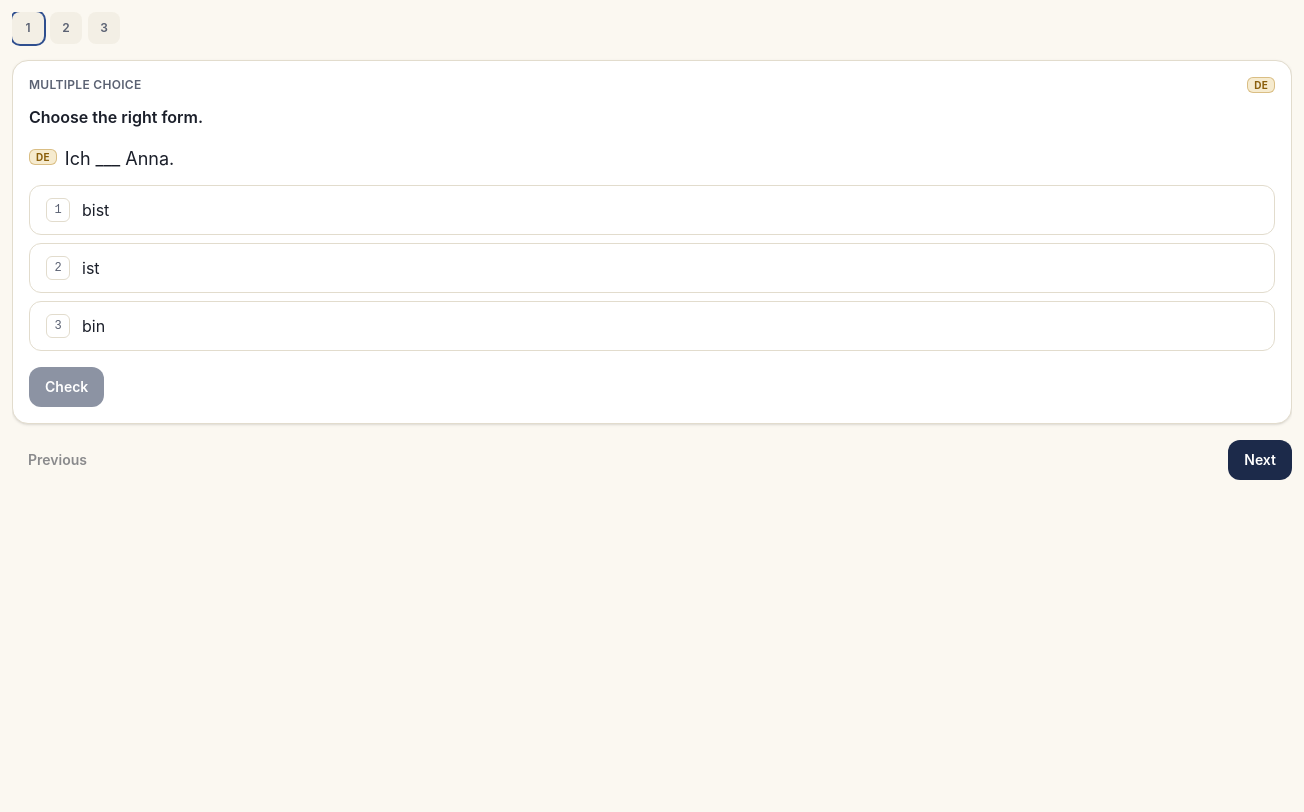
Test: ExerciseRunner › jumps back to a mistake from the summary
Click the radio button labelled "ist". click: (58, 268)
box: [29, 243, 1275, 293]
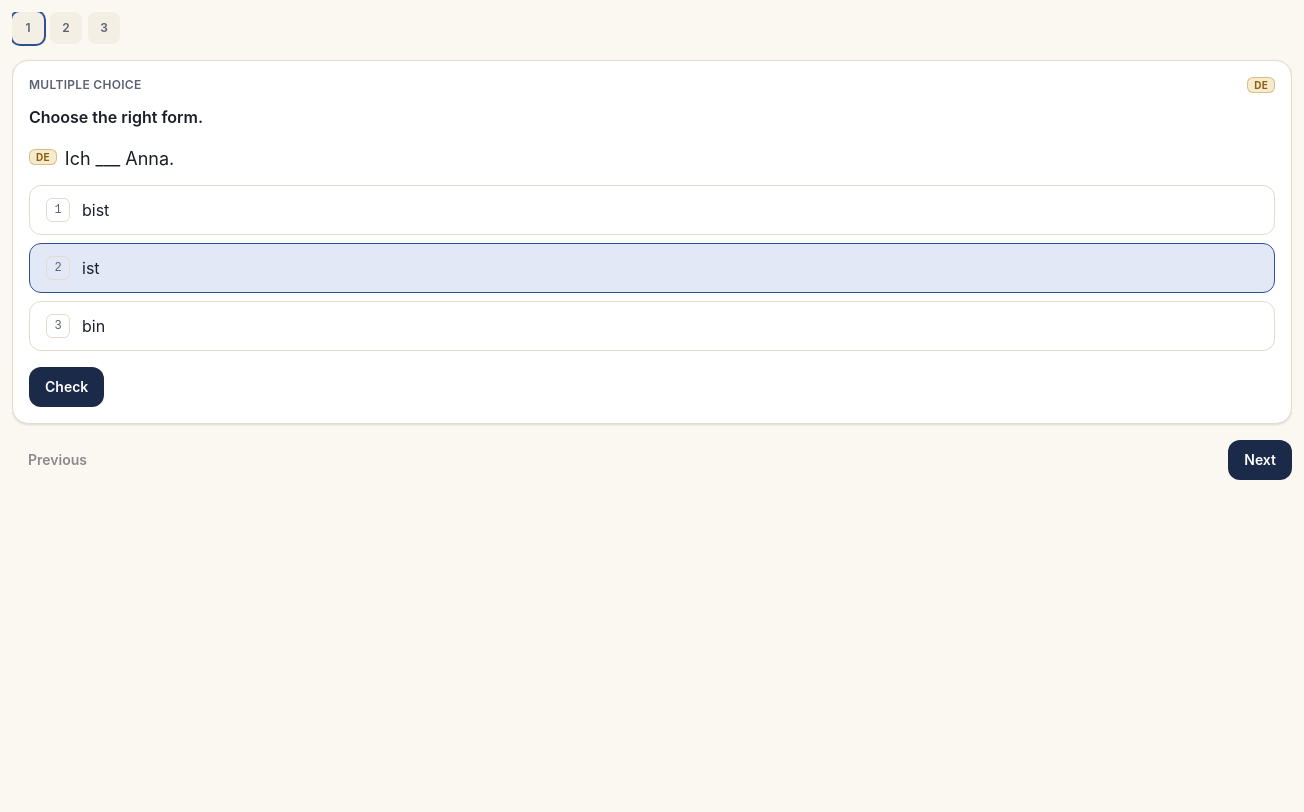
Click the button "Check". click: (67, 387)
box: [29, 367, 104, 407]
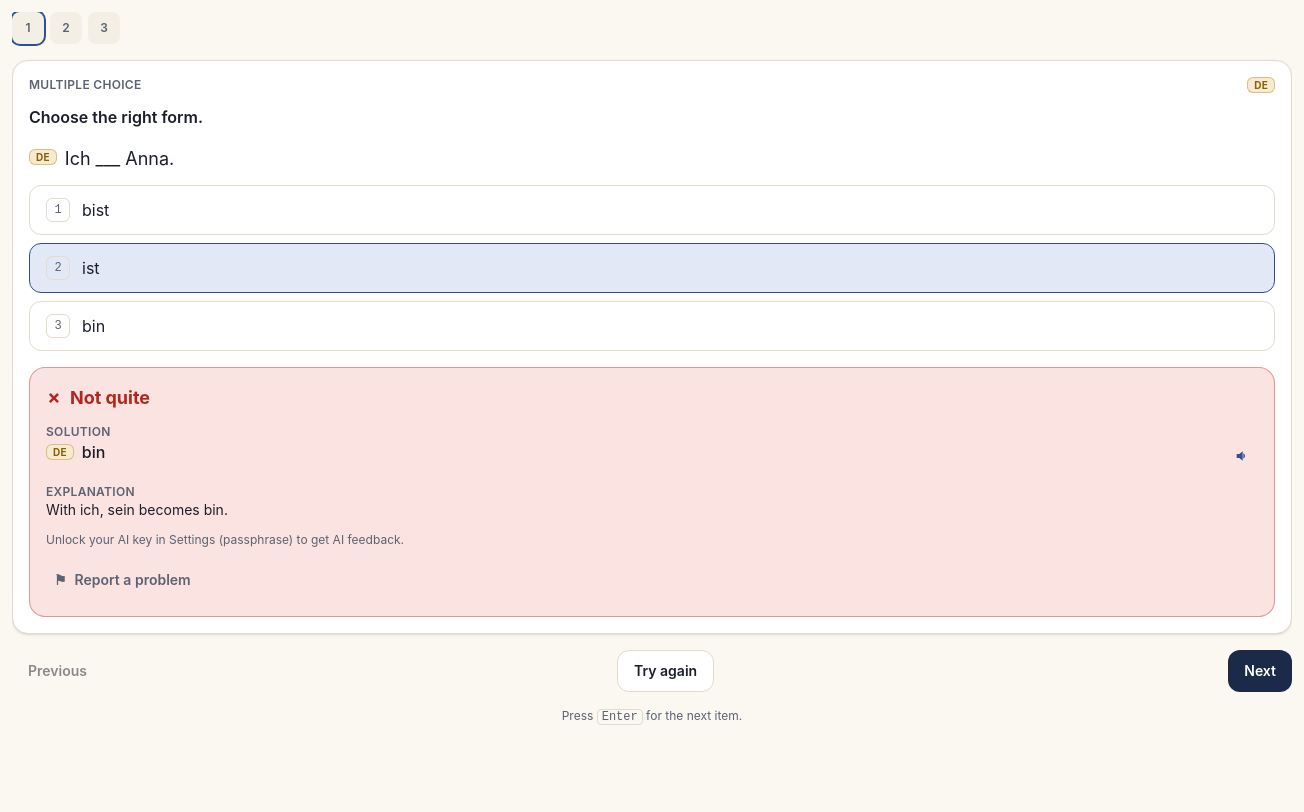
Check: the text "Not quite" is shown, box [70, 384, 150, 412]
Click the button "Next". click: (1260, 671)
box: [1228, 650, 1292, 692]
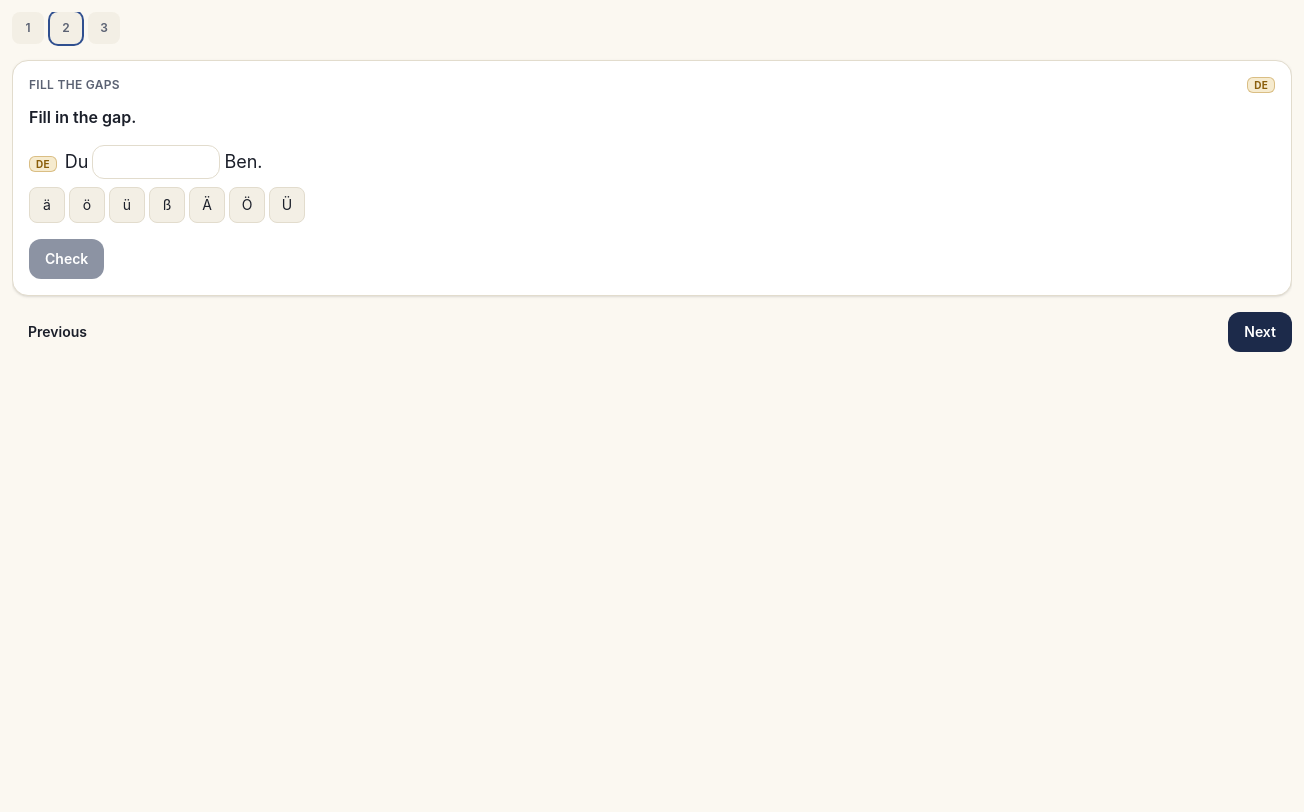
Click the button "Next". click: (1260, 332)
box: [1228, 312, 1292, 352]
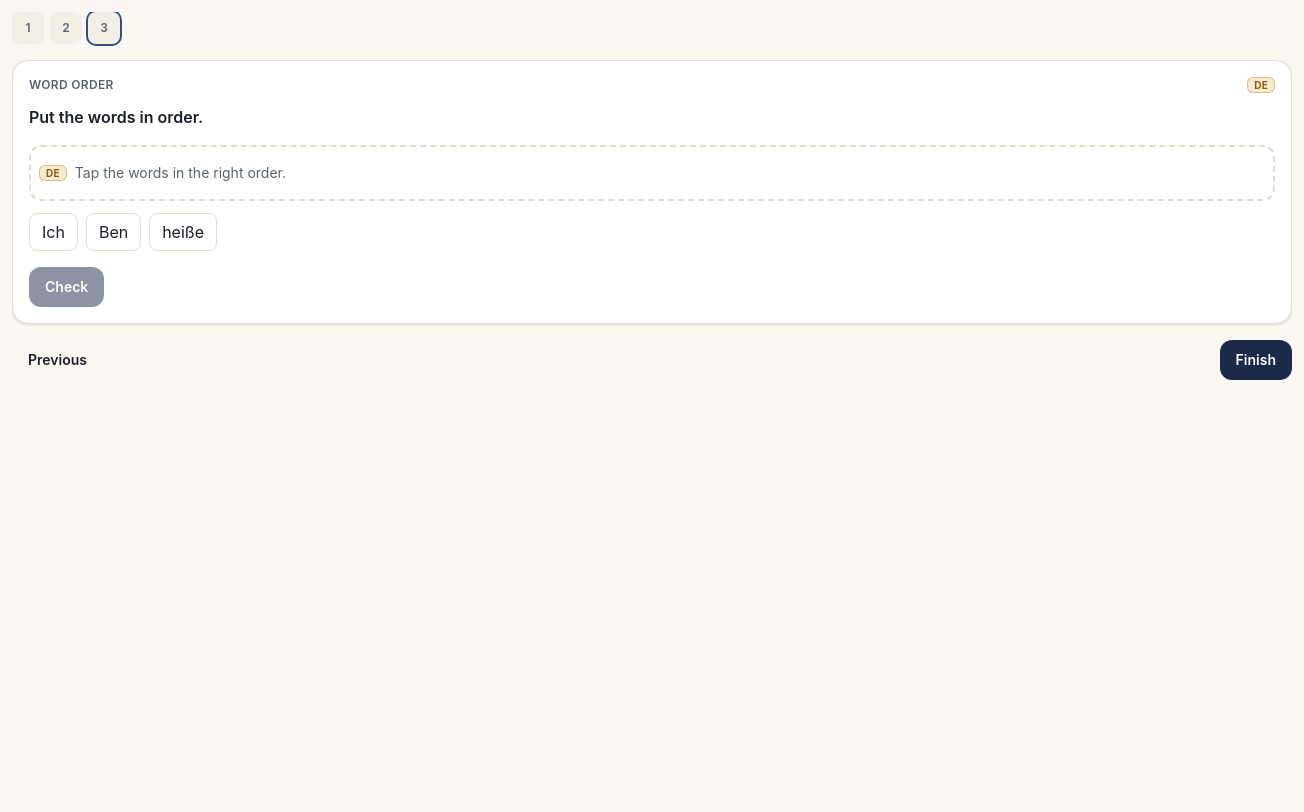
Click the button "Finish". click: (1256, 360)
box: [1220, 340, 1292, 380]
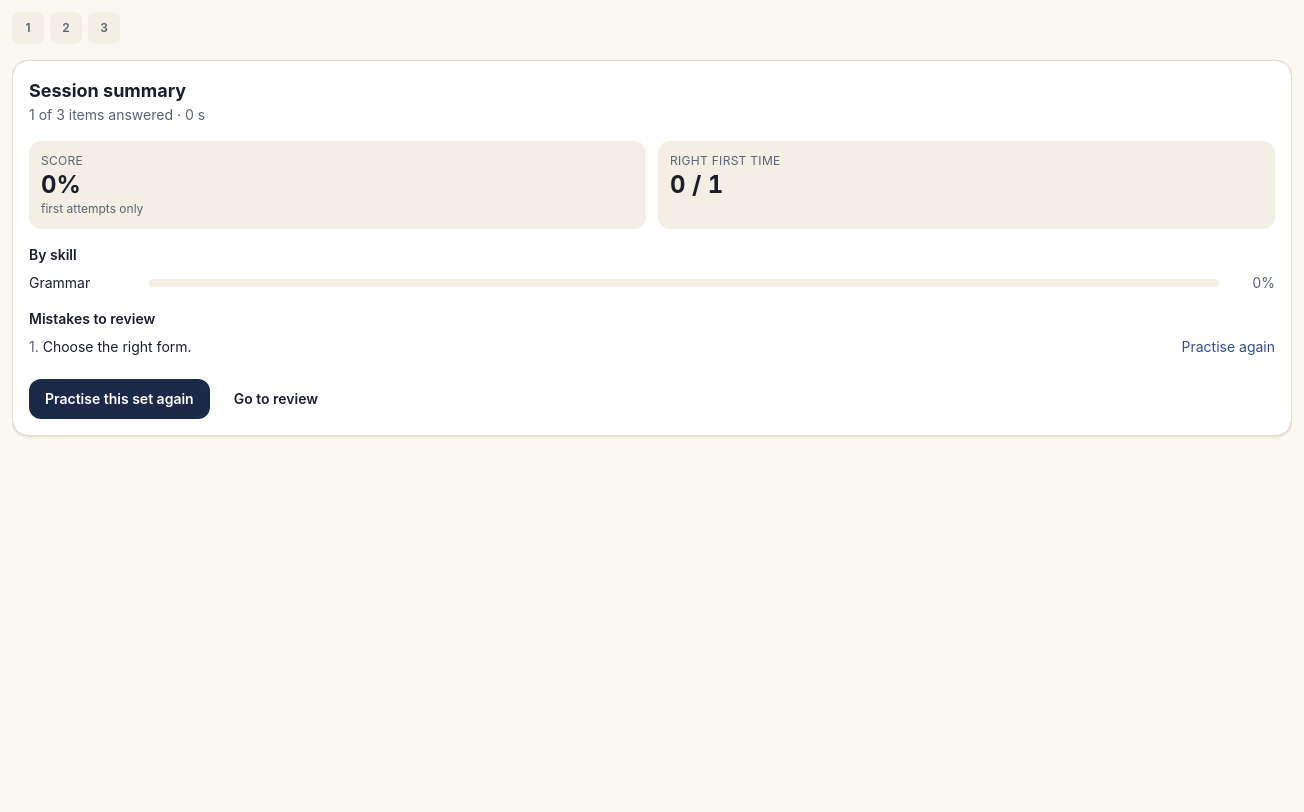
Click the link with aria-label "Practise item 1 again". click: (1228, 347)
box: [1182, 337, 1275, 357]
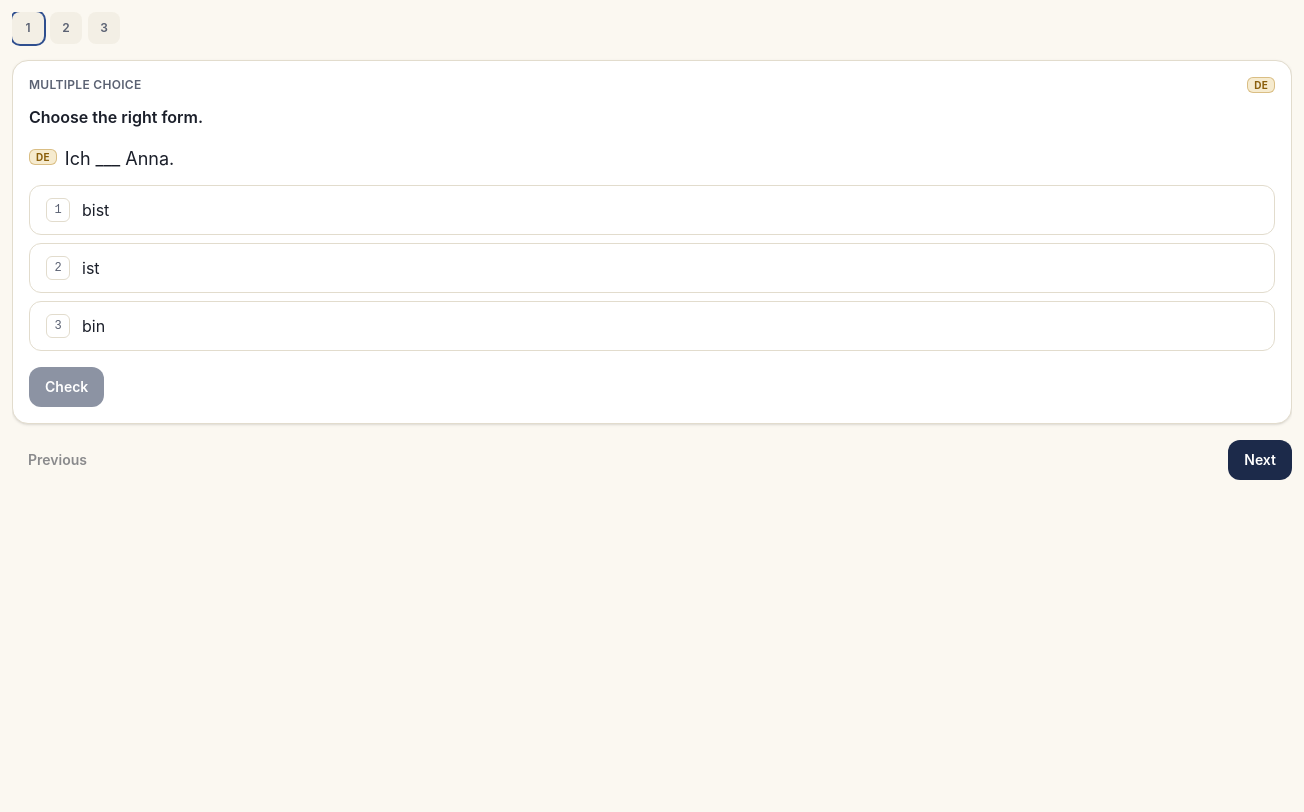
Check: the heading "Choose the right form." is shown, box [29, 107, 203, 127]
Check: the heading "Session summary" is gone
